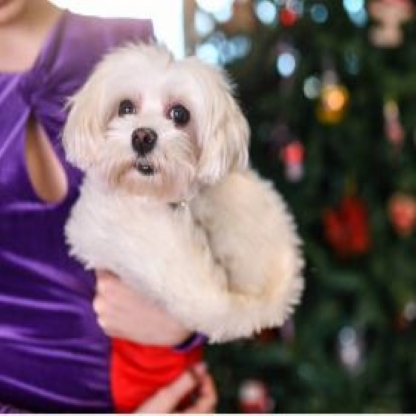maltese: (60, 39, 250, 203)
